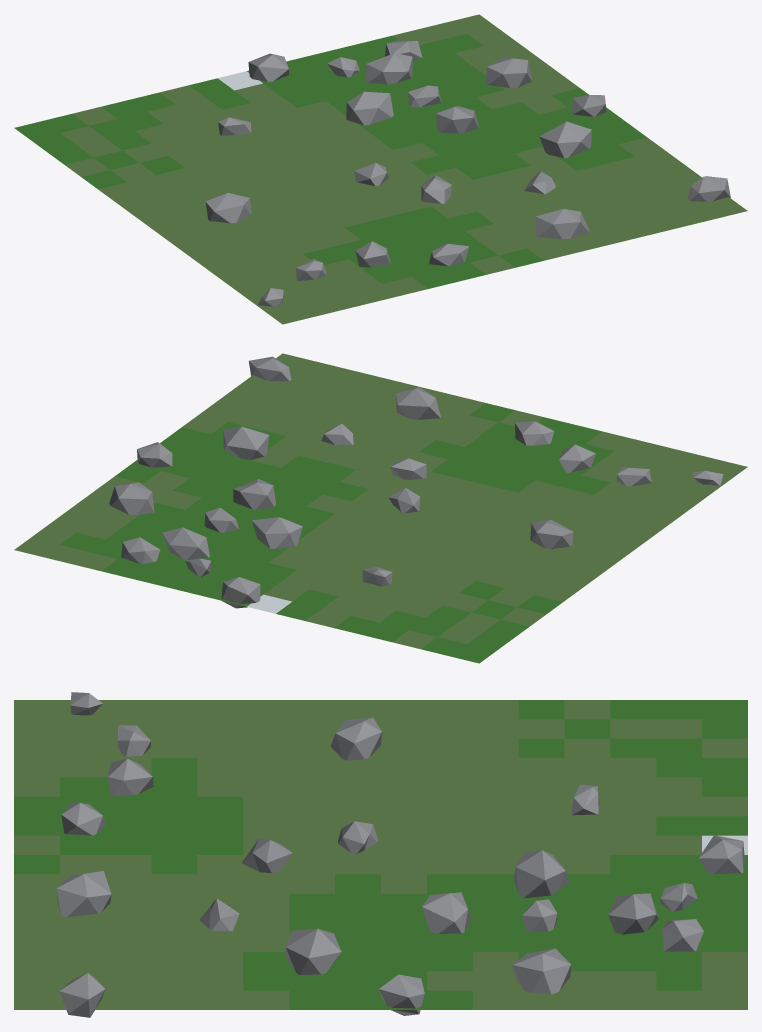
The model's file is chunk_9_2.glb.
The picture shows the model from 3 angles, top to bottom: view 1: azimuth 30°, elevation 25°; view 2: azimuth 150°, elevation 25°; view 3: azimuth 270°, elevation 25°; orthographic projection. The views are drawn at different scales.
Visible parts, largest first — view 1: chunk_9_2; view 2: chunk_9_2; view 3: chunk_9_2.
Boxes of the visible parts, x1,y1,x2,y2 form: chunk_9_2: (14,14,747,324); chunk_9_2: (14,353,747,663); chunk_9_2: (14,692,747,1017).
Bounding box in the file's own units: 16.23 × 1.36 × 16.
